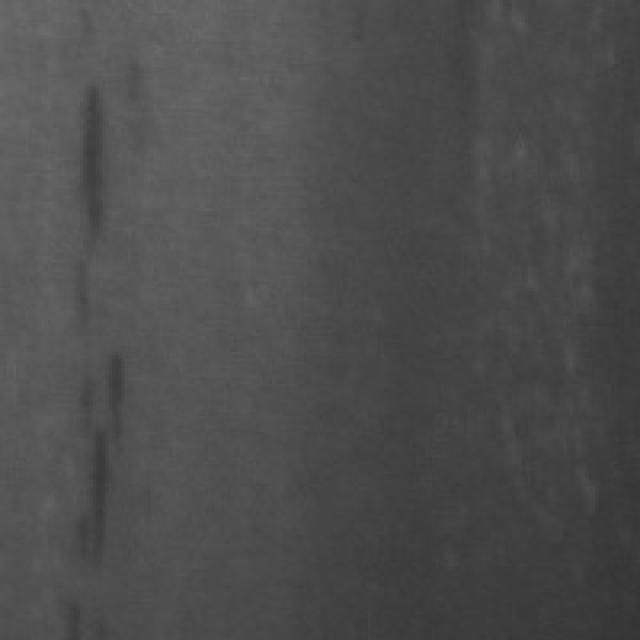inclusion: (61, 339, 141, 570), (61, 70, 118, 327)
